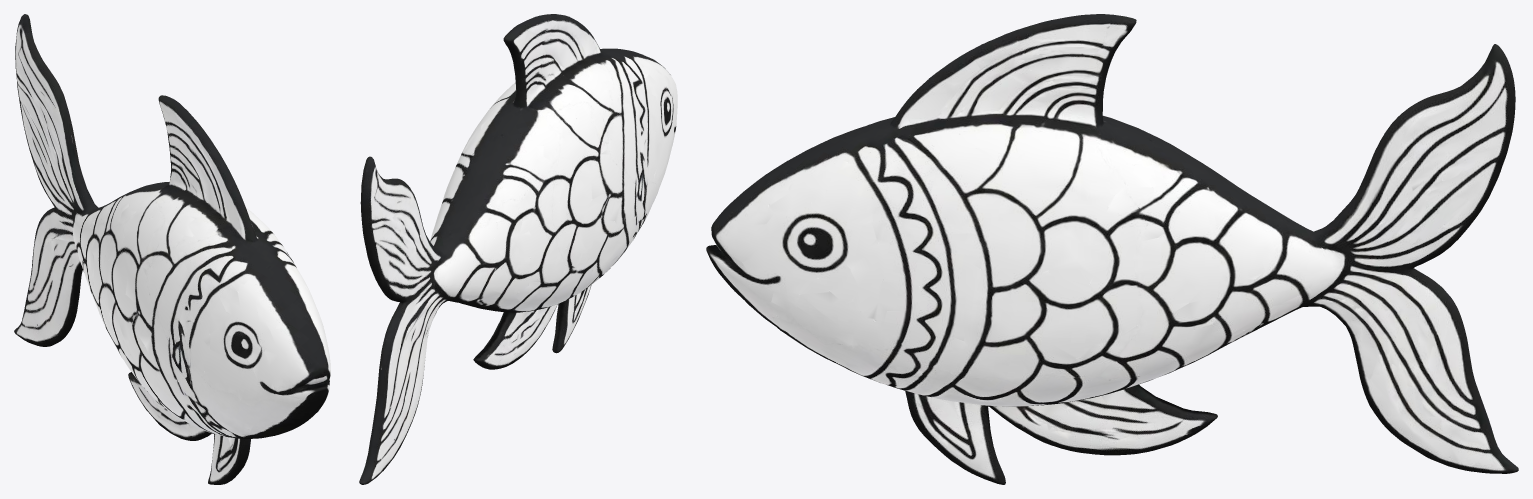
Rendered from ornate.glb.
The picture shows the model from 3 angles, left to right: view 1: azimuth 30°, elevation 25°; view 2: azimuth 150°, elevation 25°; view 3: azimuth 270°, elevation 25°; orthographic projection. The views are drawn at different scales.
Parts seen in each view (by area): view 1: model; view 2: model; view 3: model.
Part boxes in pixels (box(x1,y1,x2,y2)): model: box(14, 14, 330, 484); model: box(359, 14, 677, 484); model: box(706, 14, 1518, 484).
Bounding box in the file's own units: 0.4413 × 1.22 × 1.91.
Materials: 1 (1 with a texture image).
